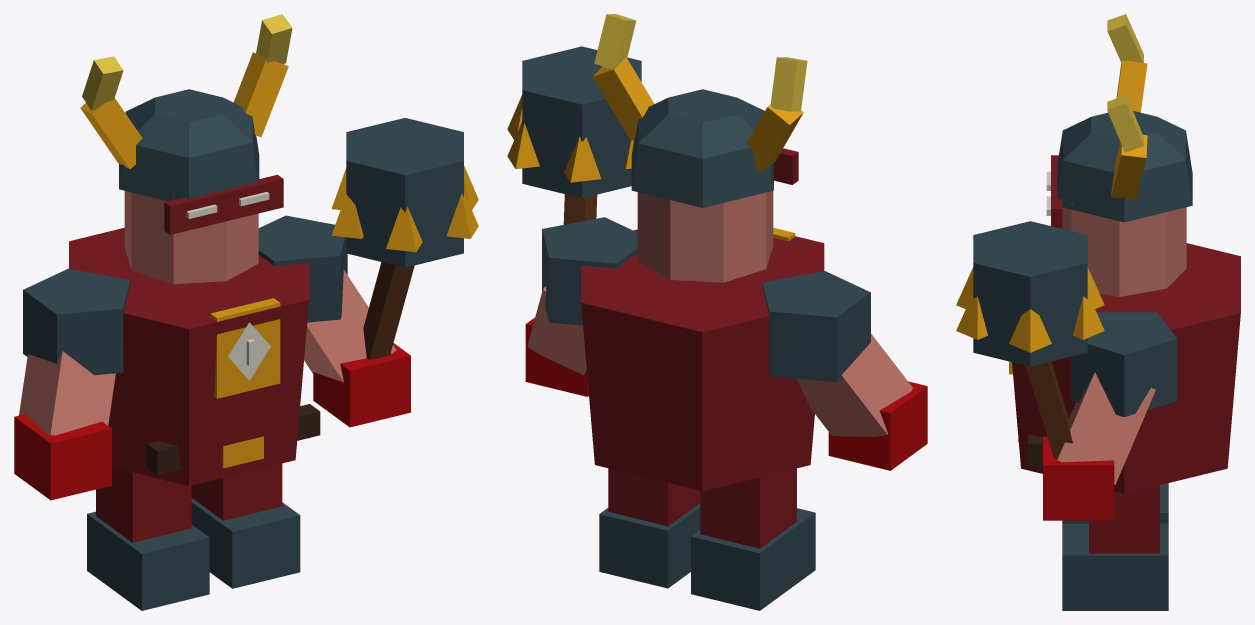
File: boss.fbx
3 views of the same model, side by side, from view 1: azimuth 30°, elevation 25°; view 2: azimuth 150°, elevation 25°; view 3: azimuth 270°, elevation 25° (orthographic). The views are drawn at different scales.
Parts seen in each view (by area): view 1: boss; view 2: boss; view 3: boss.
Part boxes in pixels (x1,y1,x2,y2): boss: (14,14,478,610); boss: (507,14,927,610); boss: (956,14,1240,610).
Bounding box in the file's own units: 2.31 × 2.77 × 1.39.
